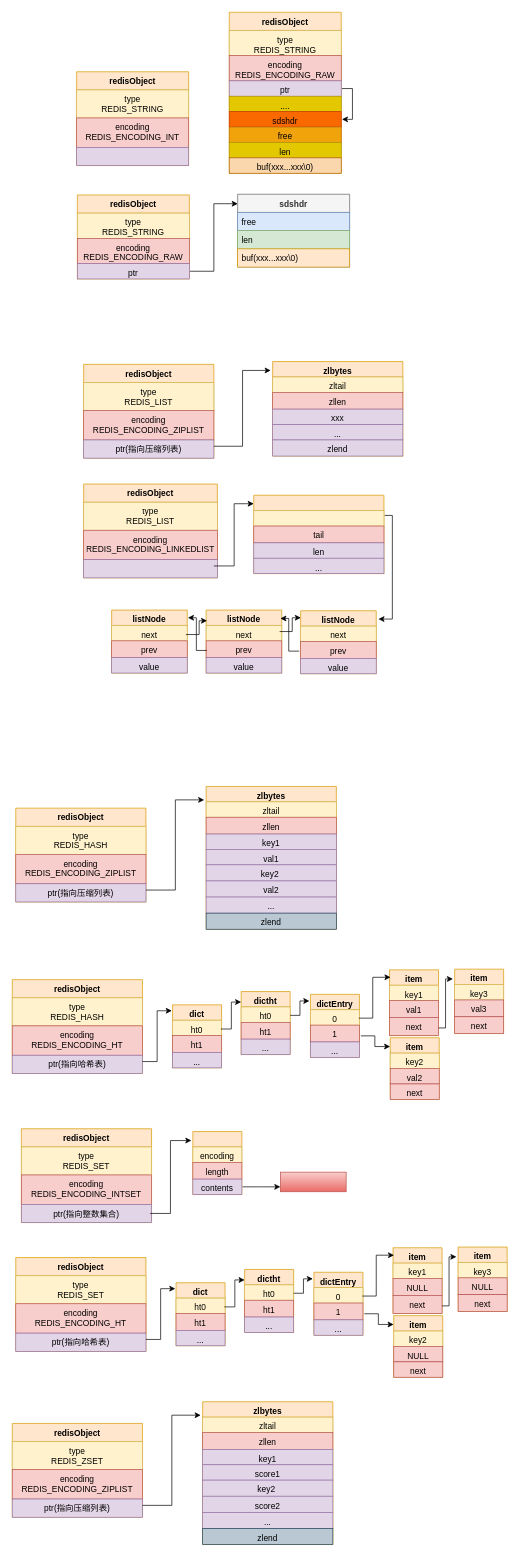
This 519x1559 diagram has some shape labels left out. The box of each missing label's shape, as (x1, y1, x2, y2) in pixels:
head: (253, 510, 384, 526)
int1 int2 ...: (280, 1171, 346, 1192)
intset: (192, 1131, 242, 1195)
list: (253, 495, 384, 574)
ptr(实际指向的数字): (76, 147, 189, 166)
ptr(指向双端链表): (83, 559, 217, 578)
